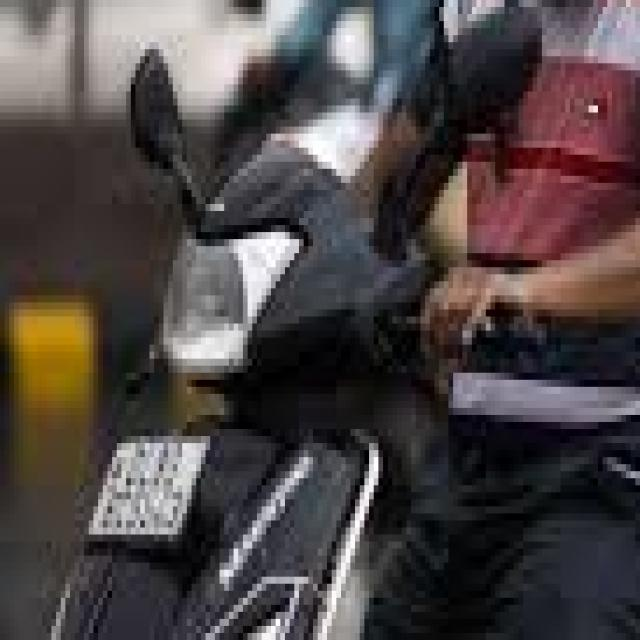bike: (33, 84, 495, 640)
